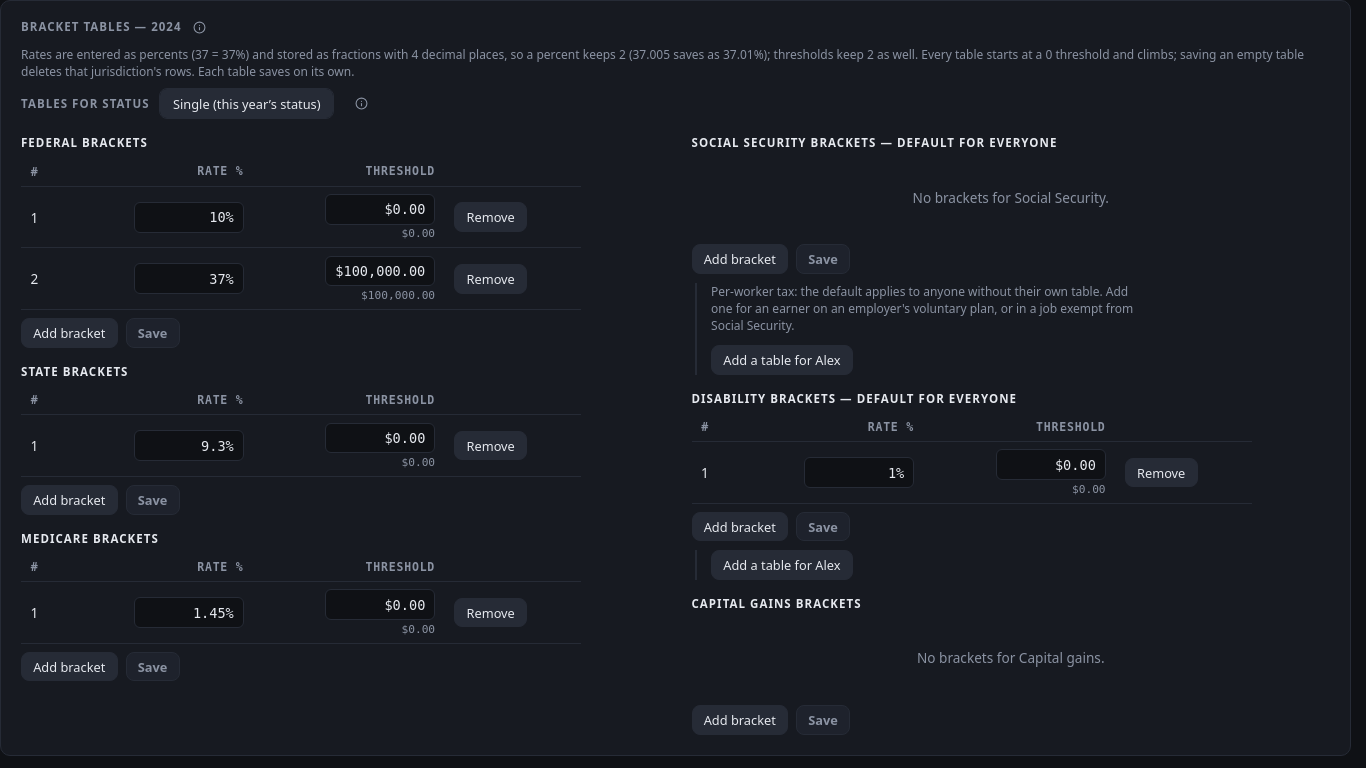
Test case: BracketsEditor › blocks a first threshold that is not 0 and an out-of-range percent
Replace the text in the field named "Federal bracket 1 threshold" with "5000": (380, 210) [325,194,435,225]
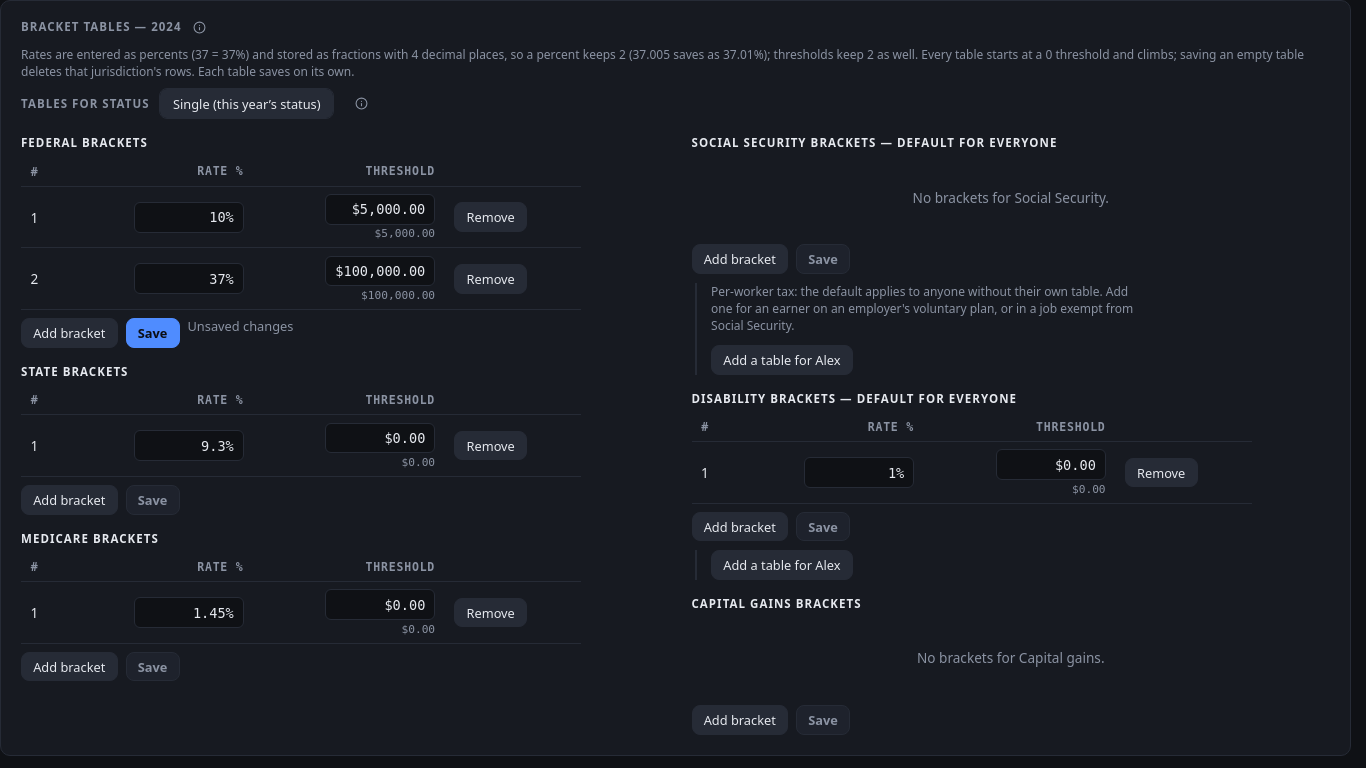
Click the button "Save" next to "Unsaved changes": (152, 333) [126,318,180,348]
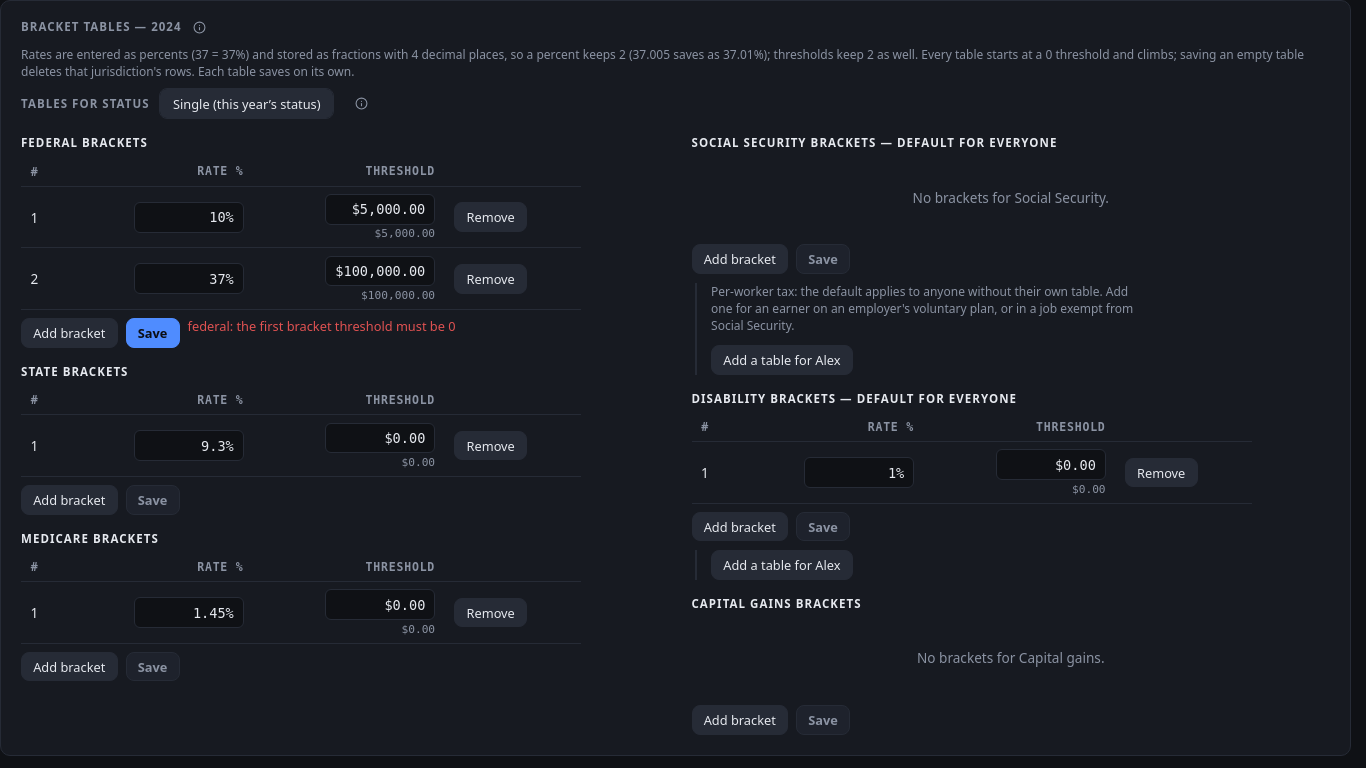
Now the message reads "federal: the first bracket threshold must be 0", box [188,317,456,335]
Replace the text in the field named "Federal bracket 1 threshold" with "0": (380, 210) [325,194,435,225]
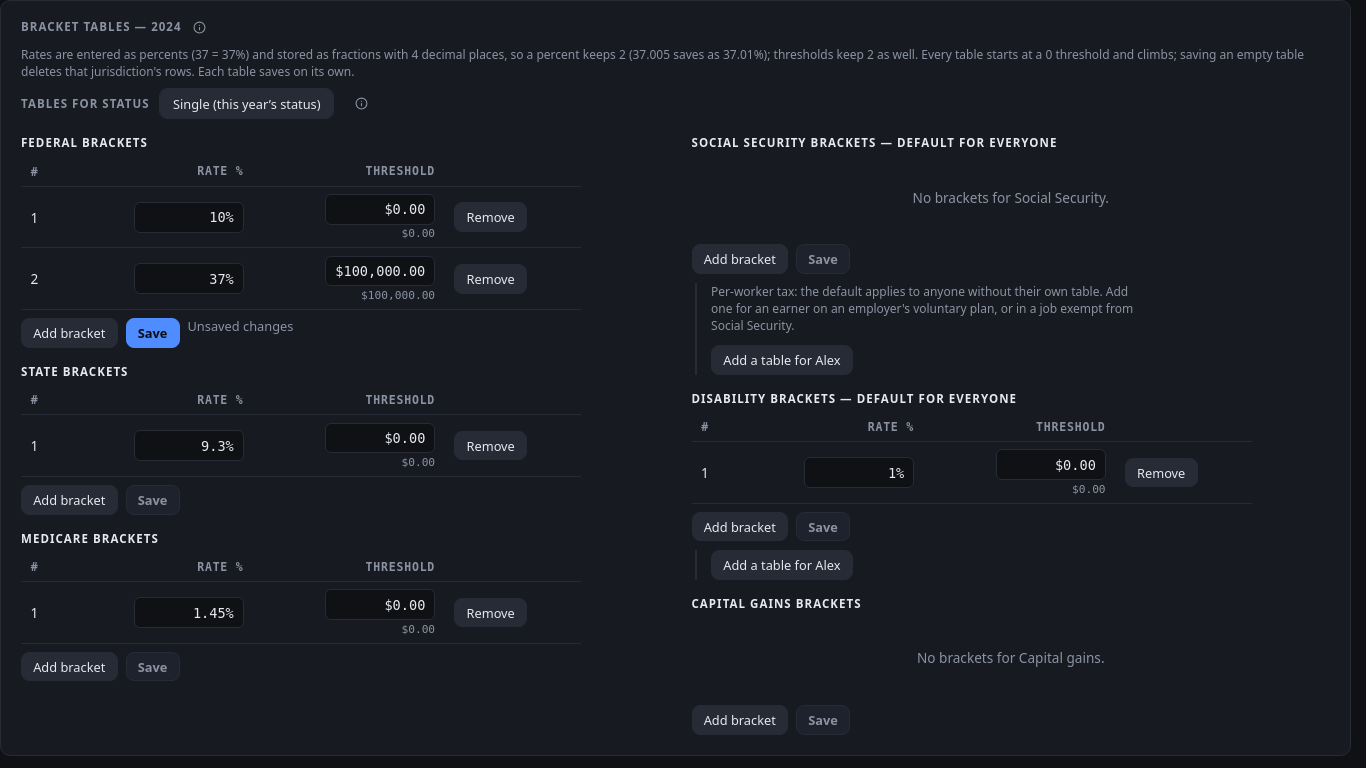
Replace the text in the field named "Federal bracket 2 rate (%)" with "370": (189, 279) [134,263,244,294]
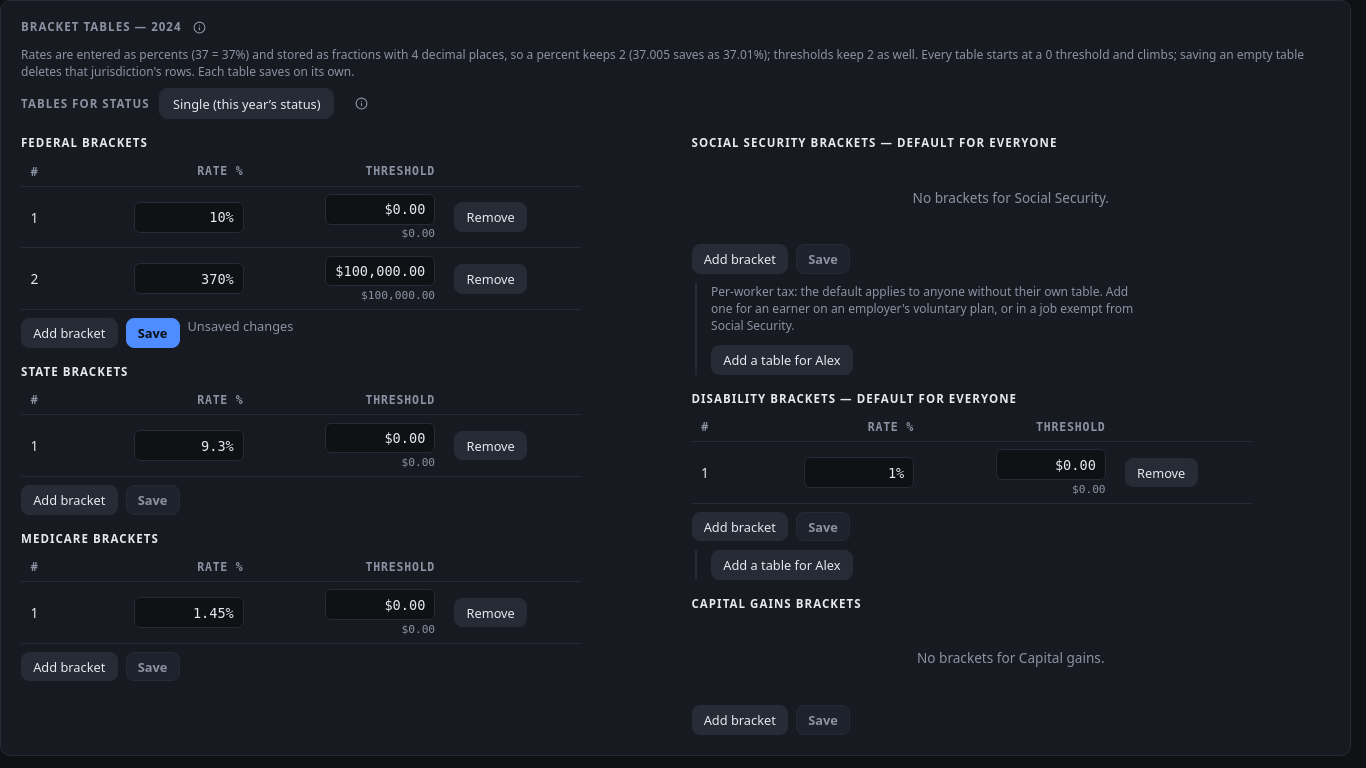
Click the button "Save" next to "Unsaved changes": (152, 333) [126,318,180,348]
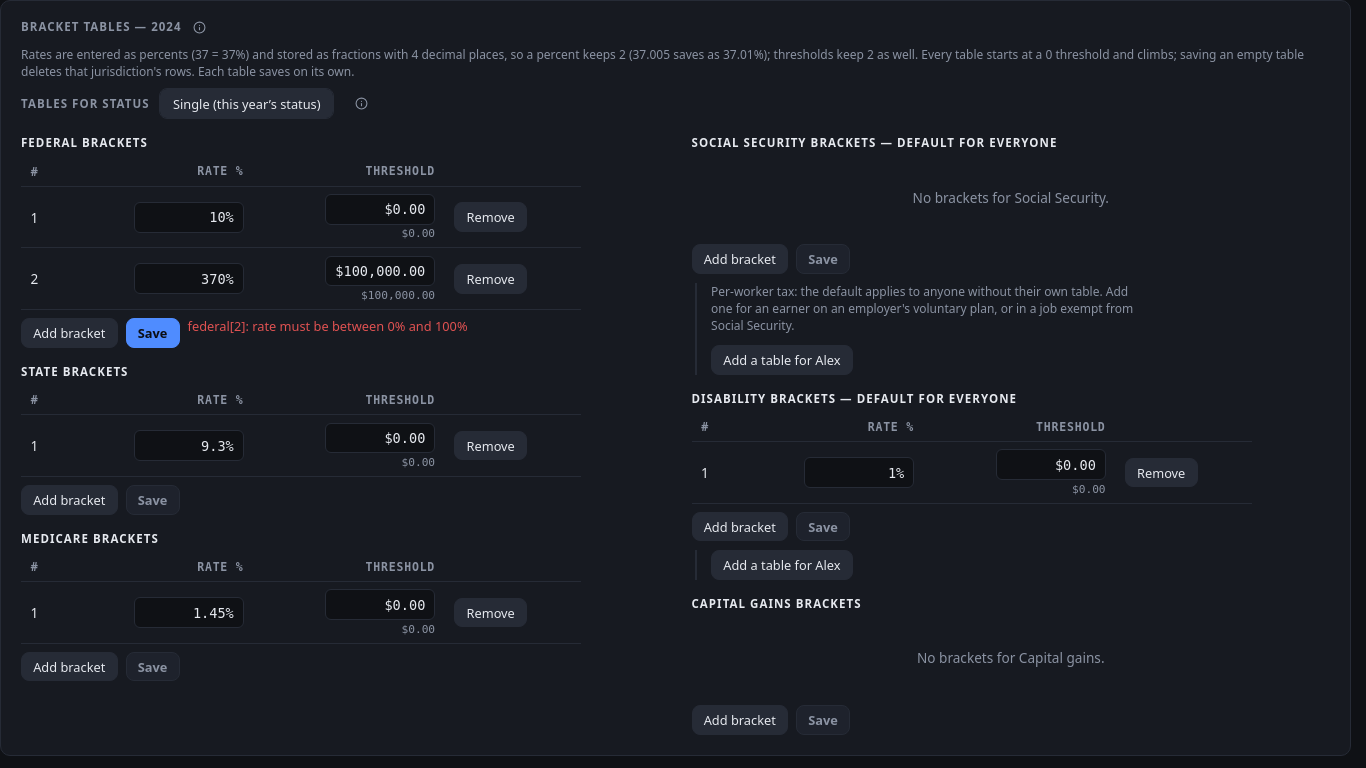
Now the message shows "rate must be between 0% and 100%", box [188,317,468,335]
